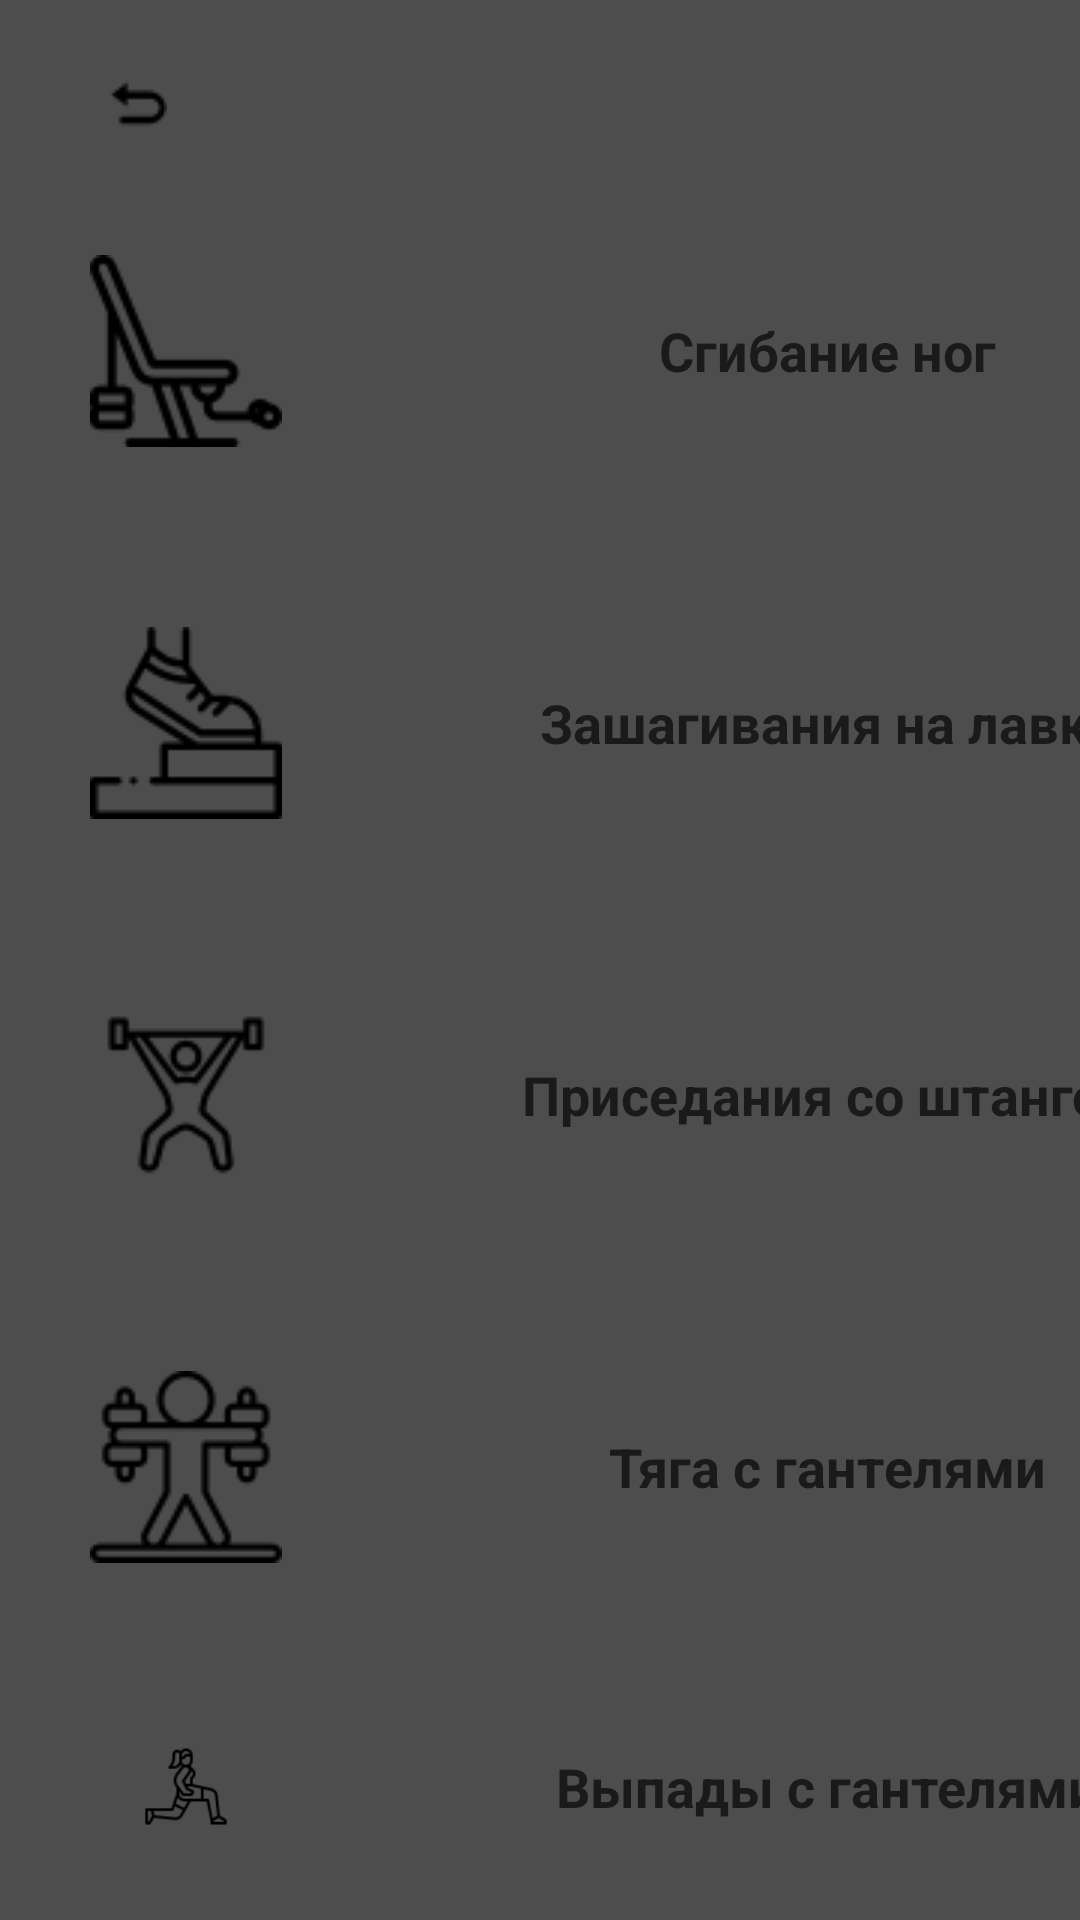

Icon bounding boxes for this 1080 x 1920 phone screenshot, format (x1, y1, x2, y2):
prisedaniya so shtangoi: (108, 1017, 264, 1173)
return: (112, 84, 167, 124)
sgibanienog: (90, 255, 282, 447)
stepping: (90, 627, 282, 819)
tyaga gantelyami: (90, 1371, 282, 1563)
vipadi: (145, 1748, 227, 1825)
